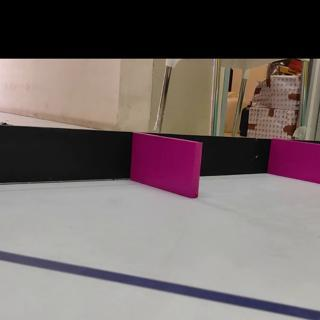xparking: (136, 142, 199, 190), (274, 145, 320, 182)
